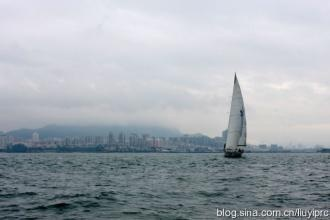fanchuan: (220, 72, 263, 159)
